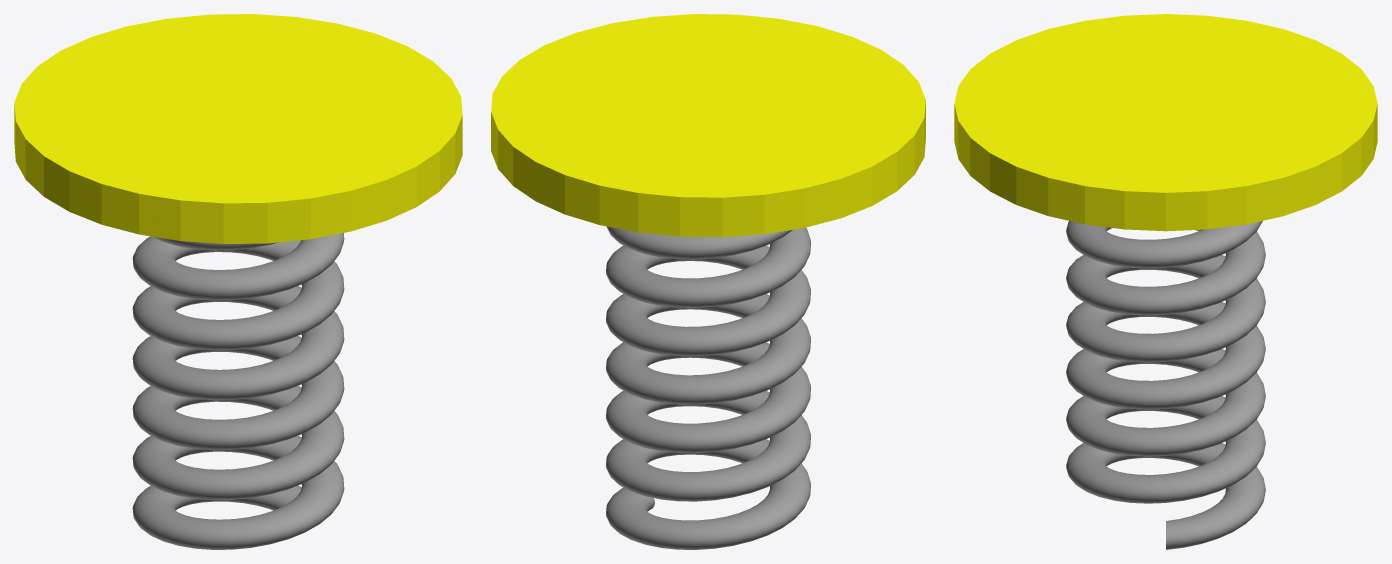
Rendered from Spring.glb.
3 views of the same model, side by side, from view 1: azimuth 30°, elevation 25°; view 2: azimuth 150°, elevation 25°; view 3: azimuth 270°, elevation 25° (orthographic). The views are drawn at different scales.
Parts seen in each view (by area): view 1: SpringTop, Spring; view 2: SpringTop, Spring; view 3: SpringTop, Spring.
Boxes of the visible parts, x1=… form: SpringTop: x1=14, y1=14, x2=462, y2=243; Spring: x1=132, y1=233, x2=344, y2=549; SpringTop: x1=491, y1=14, x2=925, y2=237; Spring: x1=606, y1=226, x2=810, y2=549; SpringTop: x1=954, y1=14, x2=1377, y2=231; Spring: x1=1066, y1=221, x2=1265, y2=549.
Size of the model in its own units: 2 by 2.14 by 2.
